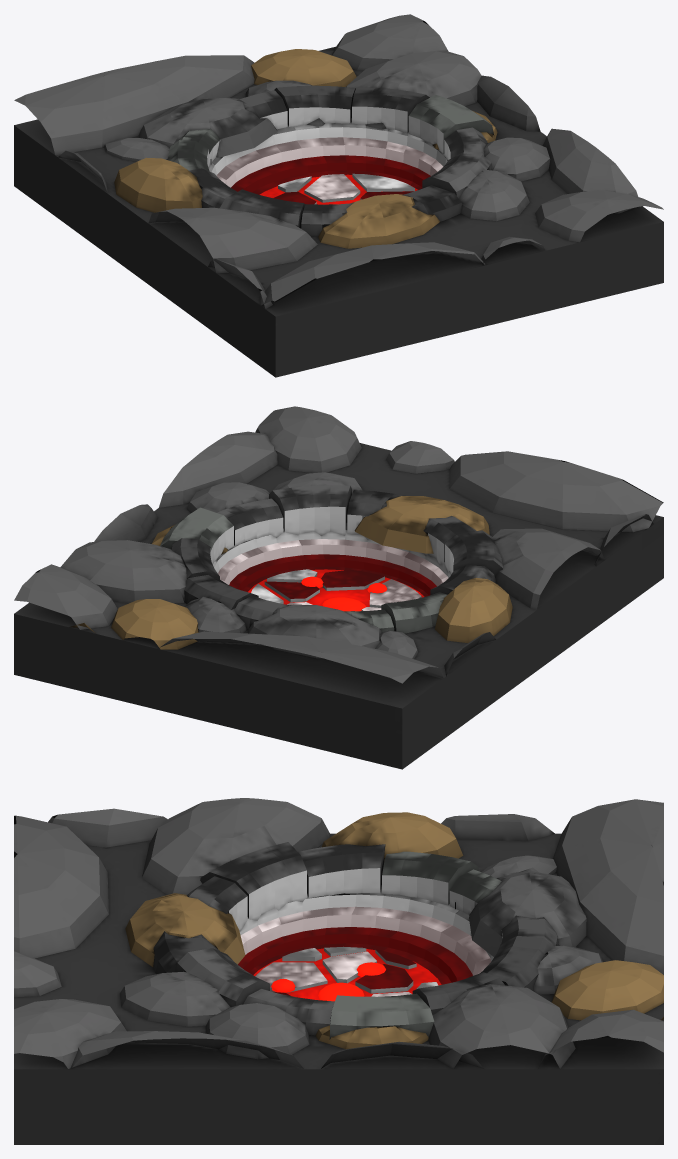
File: tyrbld-lava-pit.glb
3 renders of one model, top to bottom at view 1: azimuth 30°, elevation 25°; view 2: azimuth 150°, elevation 25°; view 3: azimuth 270°, elevation 25°, orthographic. The views are drawn at different scales.
Parts seen in each view (by area): view 1: shapesz-tyrbld-lava-pit-parts; view 2: shapesz-tyrbld-lava-pit-parts; view 3: shapesz-tyrbld-lava-pit-parts.
Part boxes in pixels (x1,y1,x2,y2): shapesz-tyrbld-lava-pit-parts: (14,14,663,377); shapesz-tyrbld-lava-pit-parts: (14,406,663,769); shapesz-tyrbld-lava-pit-parts: (14,798,663,1144).
Size of the model in its own units: 2 by 0.458 by 2.33.
14 materials, 14 textured.
